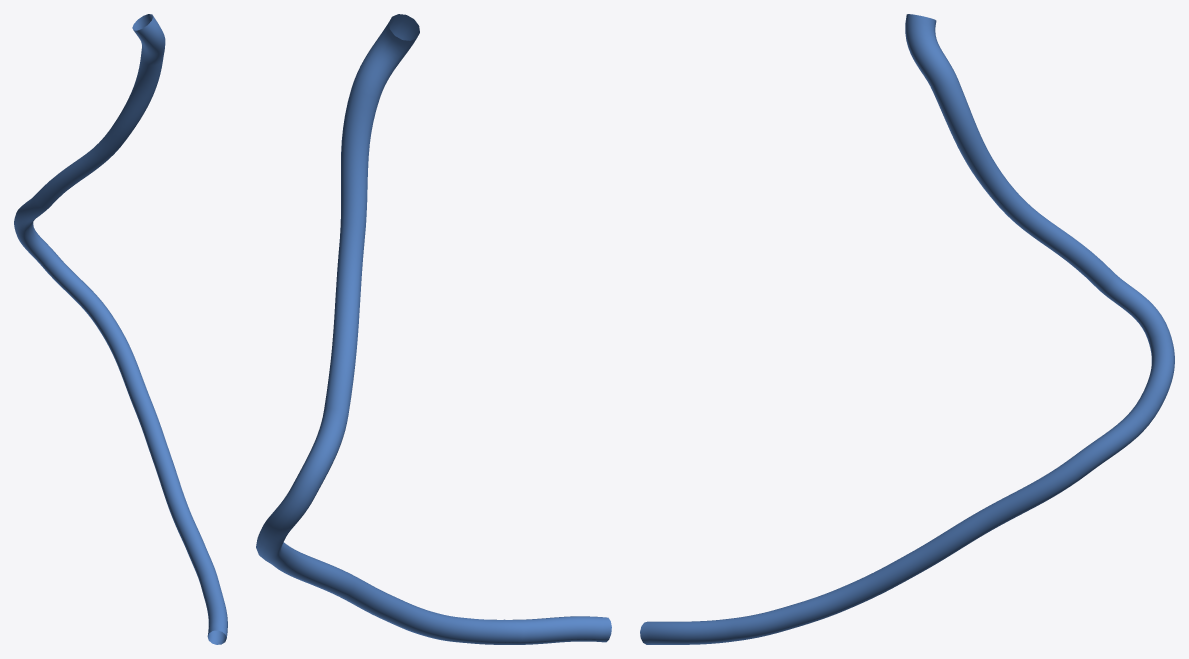
3 views of the same model, side by side, from view 1: azimuth 30°, elevation 25°; view 2: azimuth 150°, elevation 25°; view 3: azimuth 270°, elevation 25° (orthographic). The views are drawn at different scales.
Parts seen in each view (by area): view 1: 左侧面静脉; view 2: 左侧面静脉; view 3: 左侧面静脉.
Boxes of the visible parts, x1,y1,x2,y2 form: 左侧面静脉: [14, 14, 227, 644]; 左侧面静脉: [256, 14, 611, 644]; 左侧面静脉: [640, 14, 1174, 644].
Size of the model in its own units: 0.0146 by 0.091 by 0.0672.
